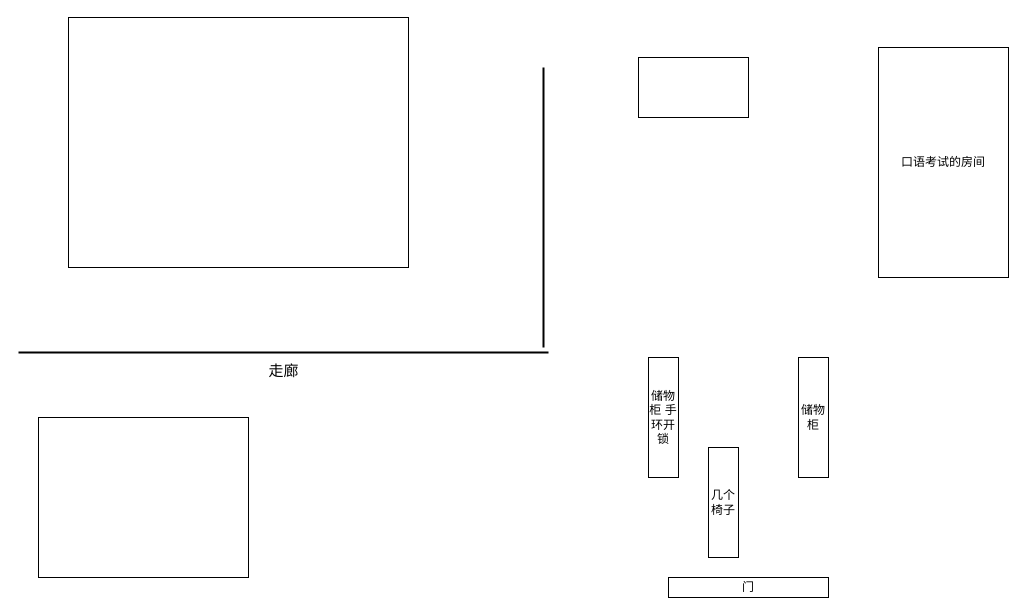
The diagram is 1026 pixels wide and 615 high, and some of its shapes have lost their labels. The centre of each missing label's shape, as x and y in pixels:
厕所: (x=143, y=497)
机考房间 好像有六排或者八排，每排四五个人: (x=238, y=142)
照相 检查信息: (x=693, y=87)
